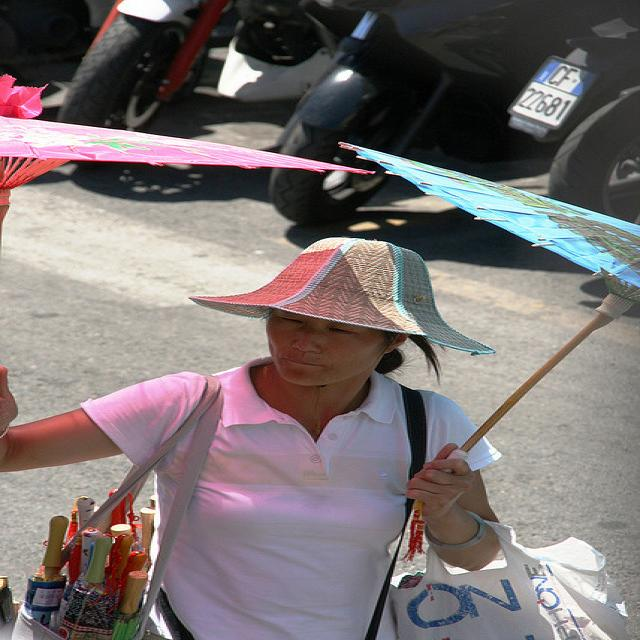motor: (266, 2, 620, 226), (54, 0, 248, 131), (545, 85, 640, 224)
